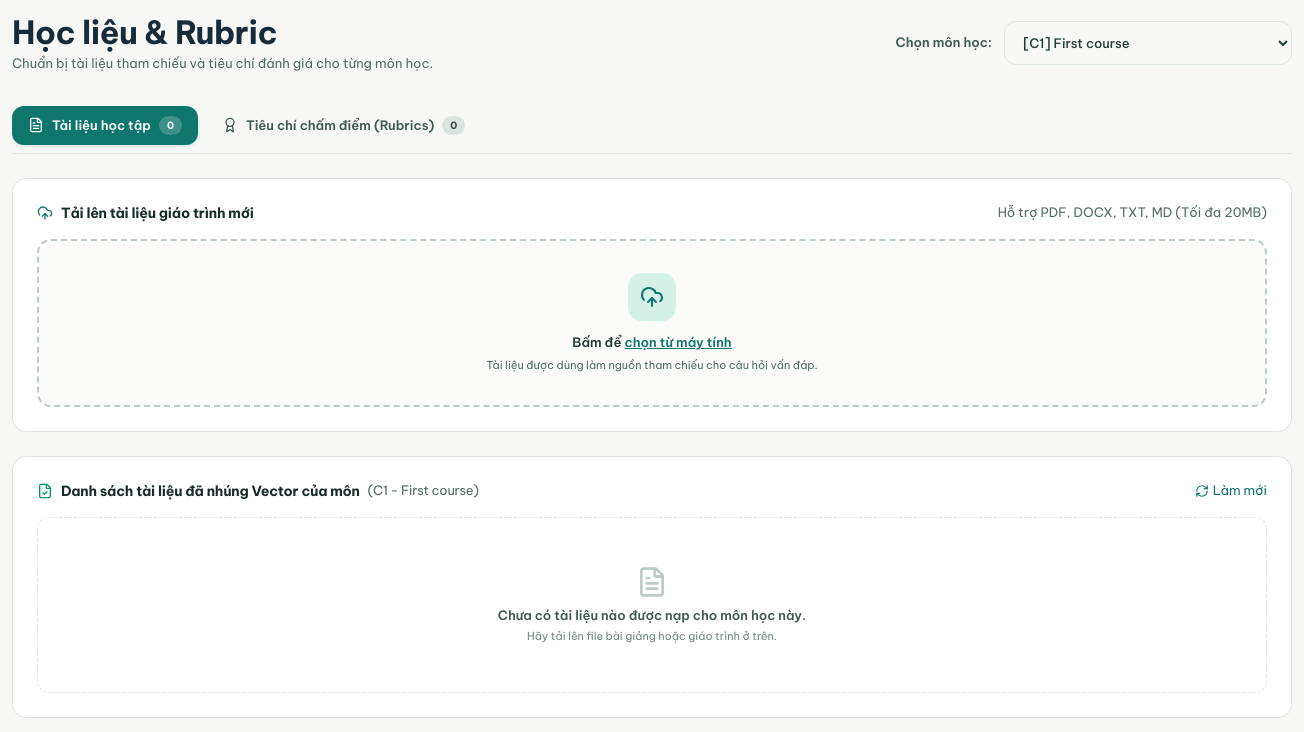
it: materials exceptions › ignores the old course response after switching courses
Select "[C2] Second course" in the dropdown labelled "Chọn môn học:" at (1148, 43), box [1004, 21, 1292, 65]
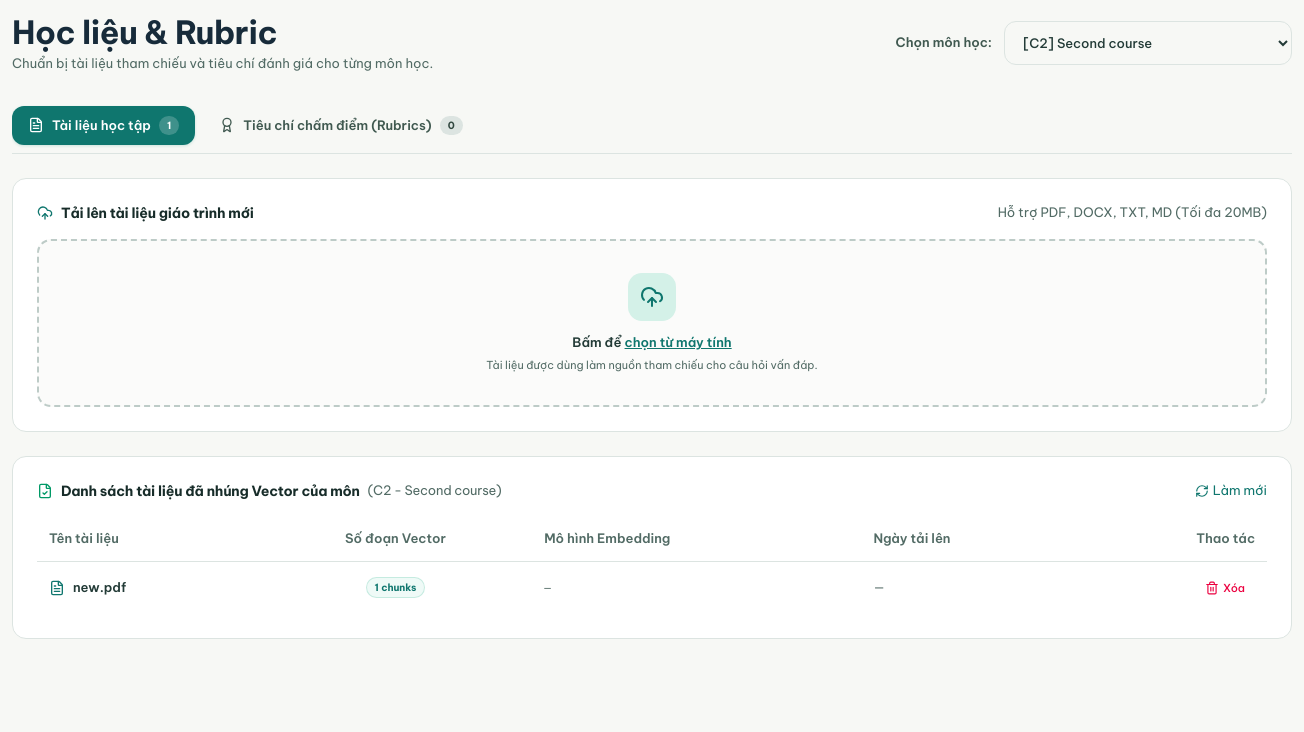
Now the text "new.pdf" is shown, box [73, 578, 126, 598]
